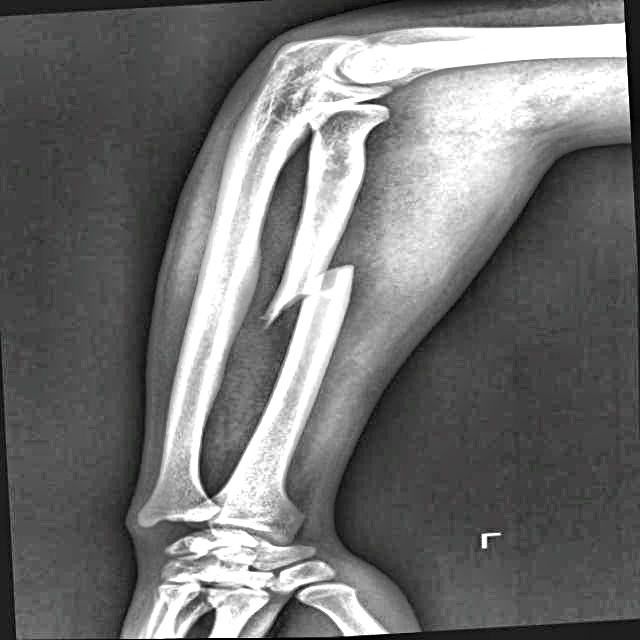Oblique: (261, 245, 376, 349)
